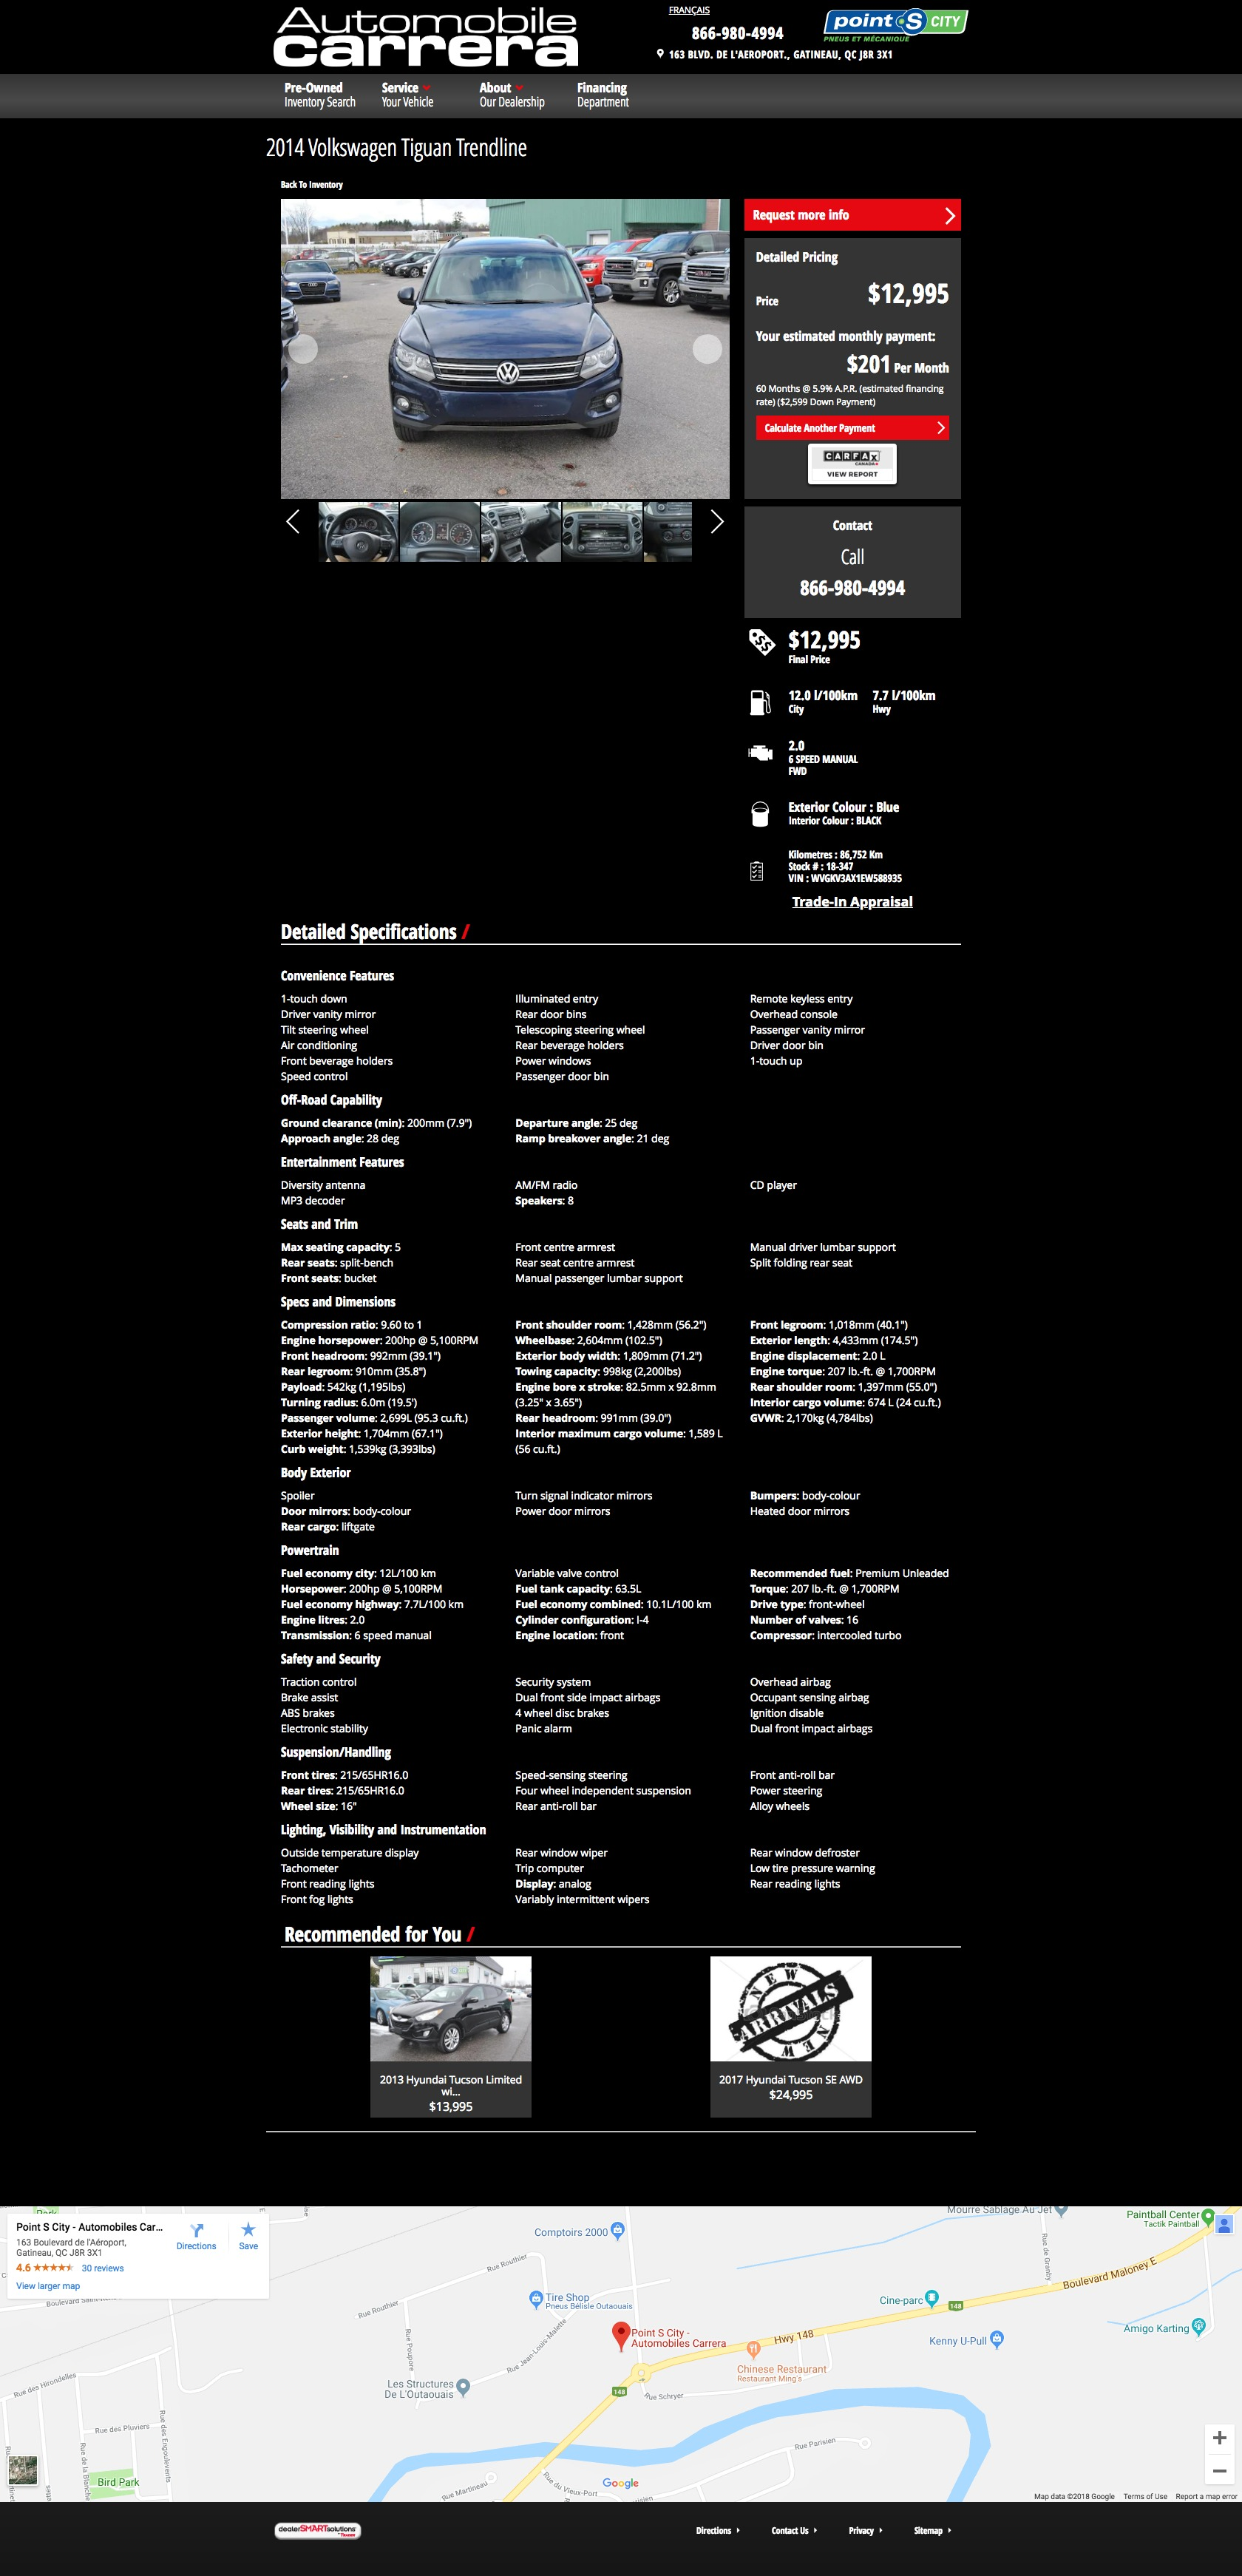arrow: (710, 511, 724, 536)
